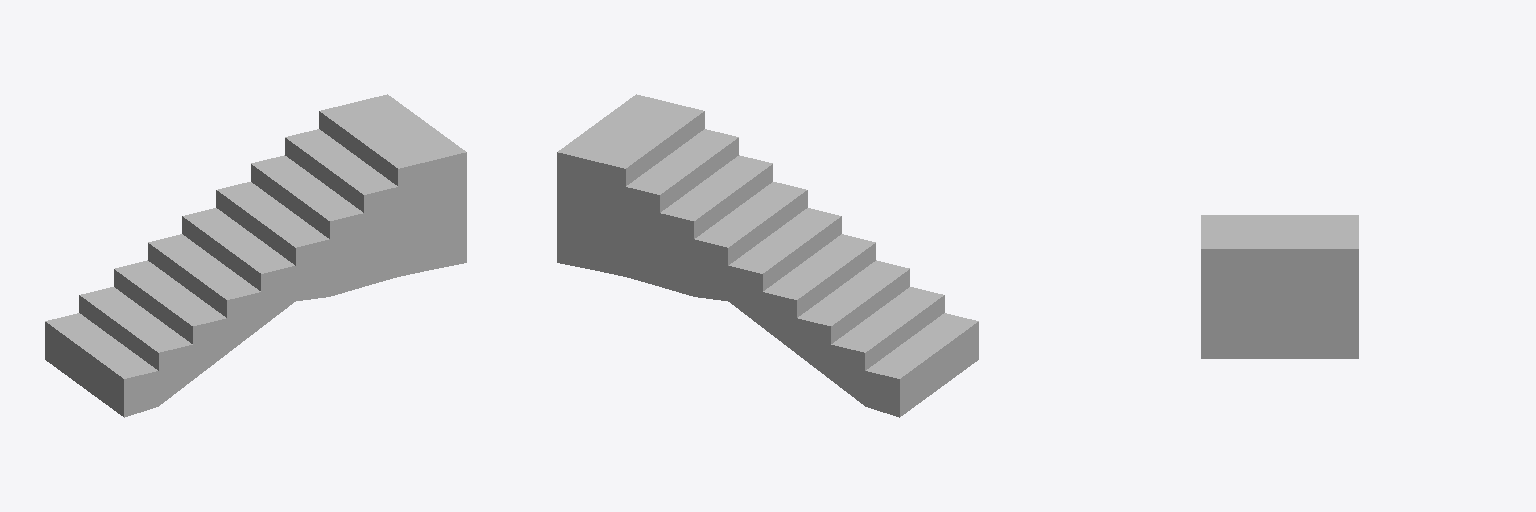
Rendered from Stairs (96).obj.
3 views of the same model, side by side, from view 1: azimuth 30°, elevation 25°; view 2: azimuth 150°, elevation 25°; view 3: azimuth 270°, elevation 25° (orthographic).
Visible parts, largest first — view 1: Stairs (96); view 2: Stairs (96); view 3: Stairs (96).
Boxes of the visible parts, <box> form: Stairs (96): <box>45,94,466,417</box>; Stairs (96): <box>557,94,978,417</box>; Stairs (96): <box>1201,215,1358,358</box>.
Size of the model in its own units: 5 by 2.54 by 2.